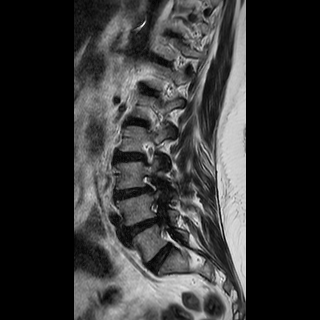LFS2: (134, 170, 160, 198)
